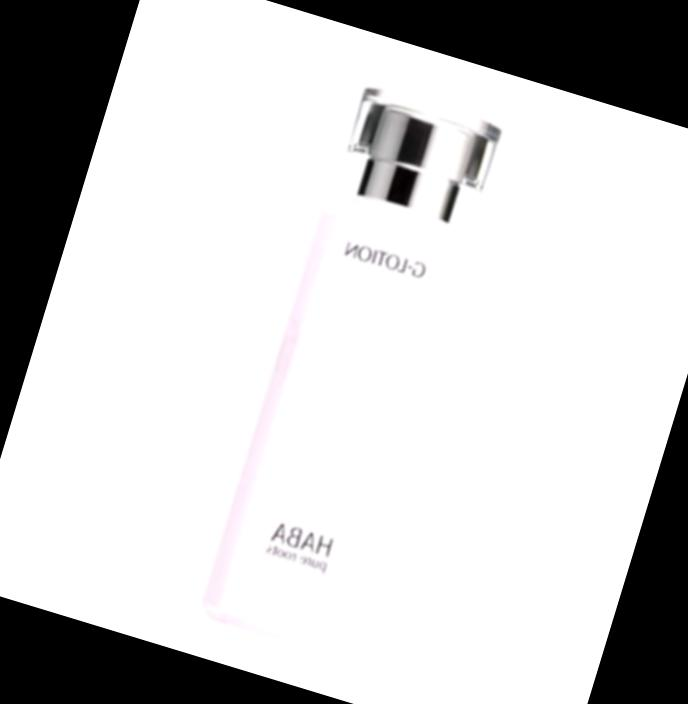cosmetic: (194, 81, 509, 659)
